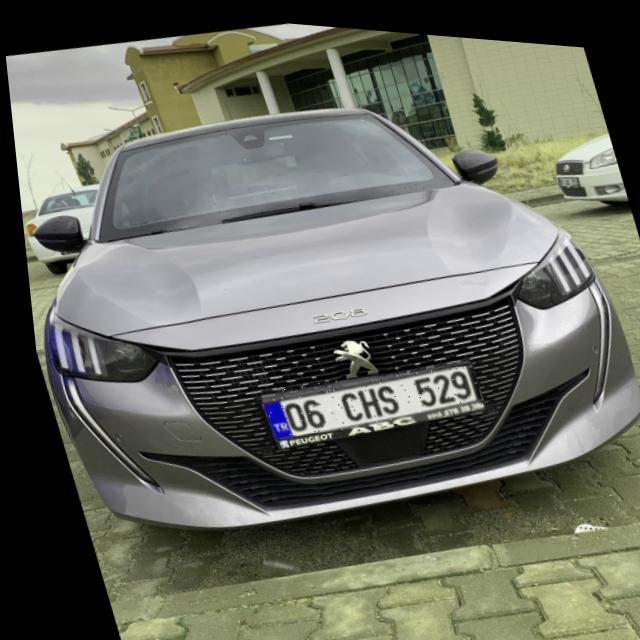license_plate: (248, 345, 481, 448)
